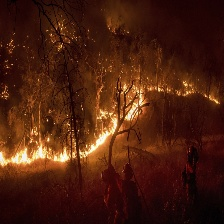fire: (1, 83, 221, 165)
